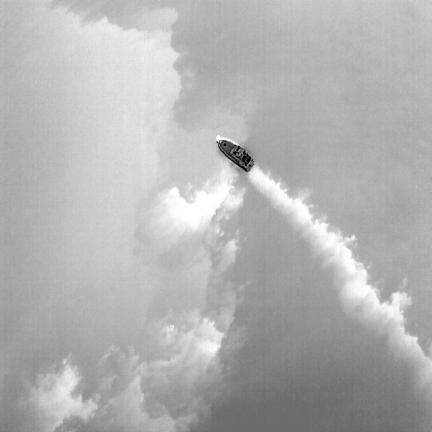flukeprints: (145, 178, 232, 245)
